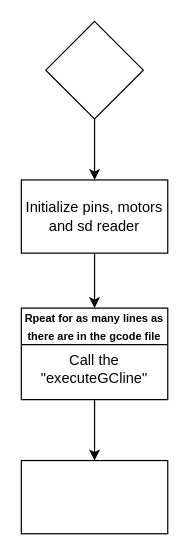
The diagram is 189 pixels wide and 555 high, and some of its shapes have lost their labels. Here are the shapes that lost their labels. From the top down, the centre of each, then its label:
pixel 94 69: Program started
pixel 94 496: Call "moveToHome"
